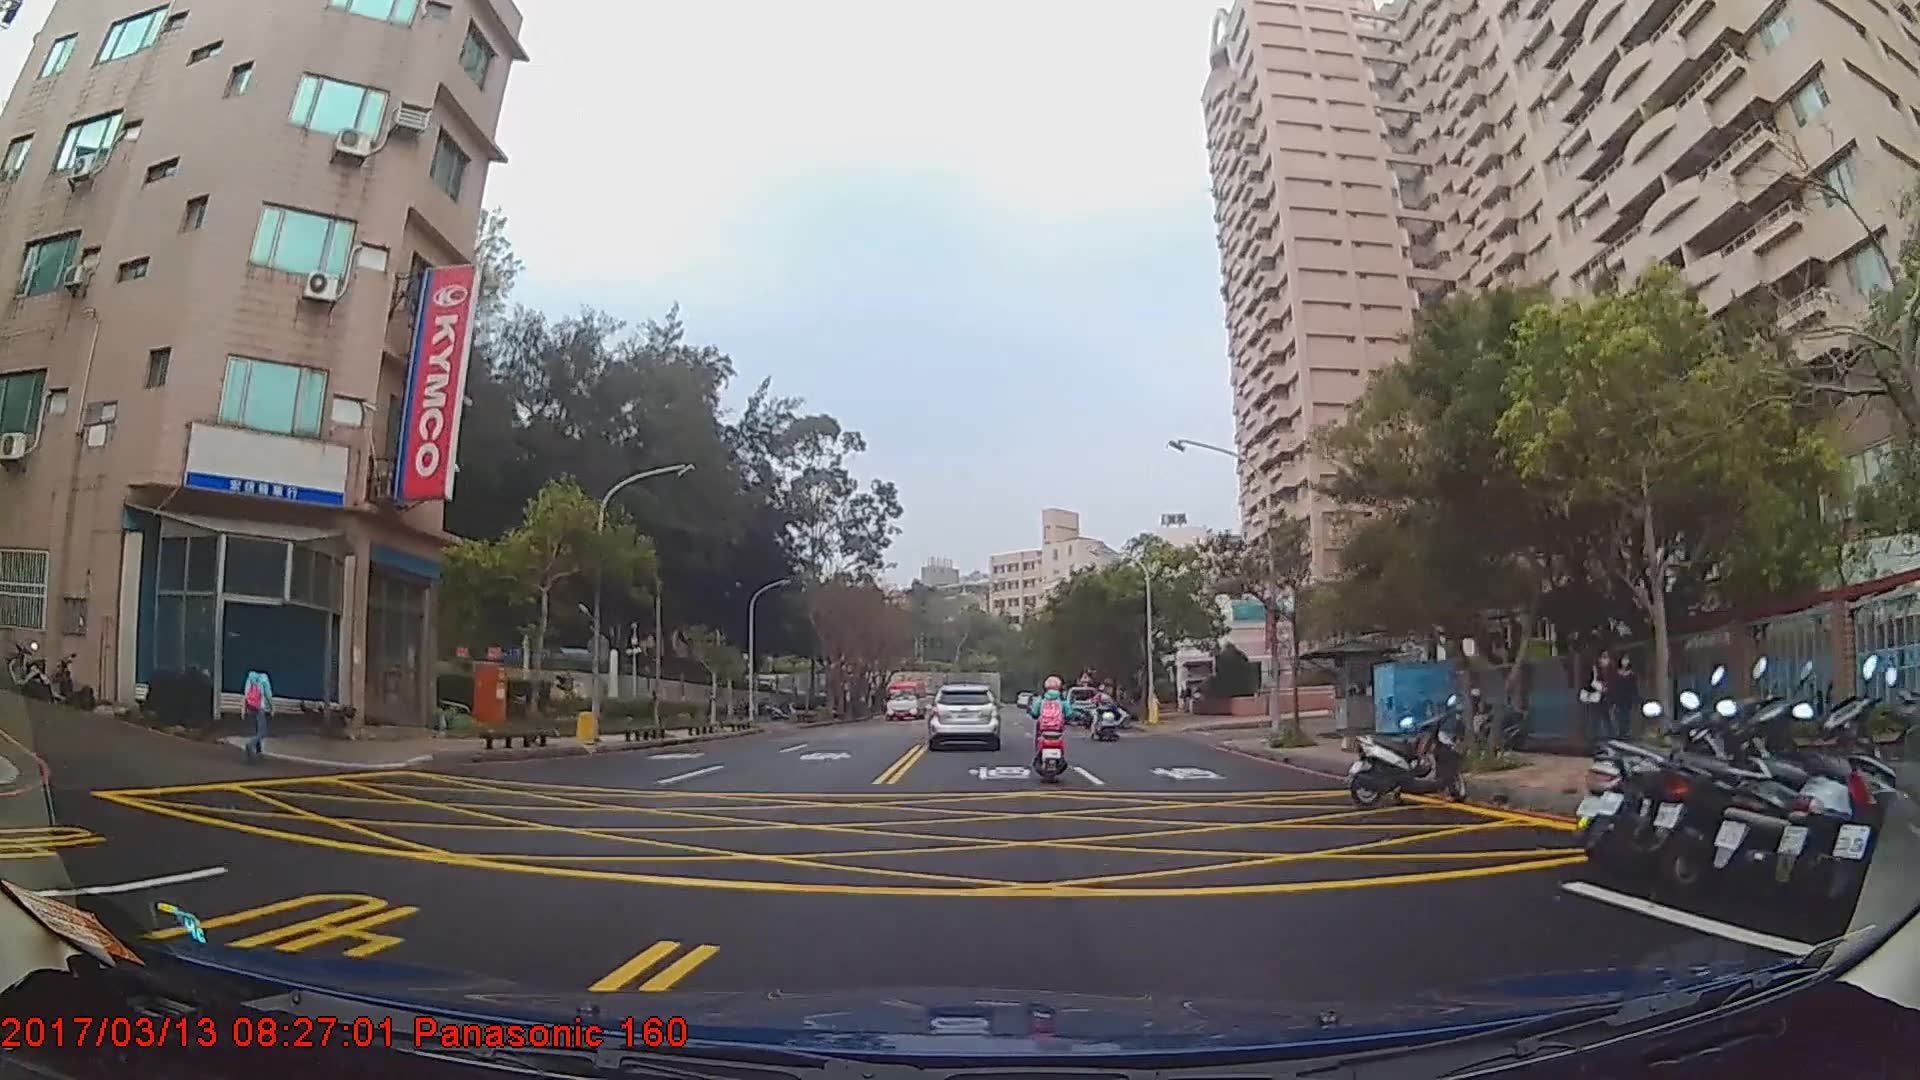pedestrian: (1579, 648, 1623, 760), (1606, 652, 1643, 763), (243, 652, 275, 763)
rider: (1028, 677, 1072, 787), (1089, 684, 1119, 738)
vehicle: (925, 683, 999, 748), (882, 677, 929, 720)
